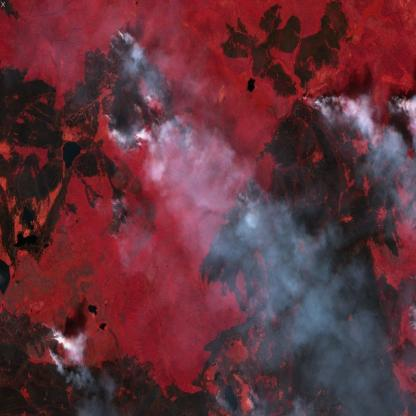fire: (103, 23, 196, 242), (311, 83, 416, 147), (213, 172, 261, 245), (33, 317, 69, 370), (402, 303, 416, 391)
